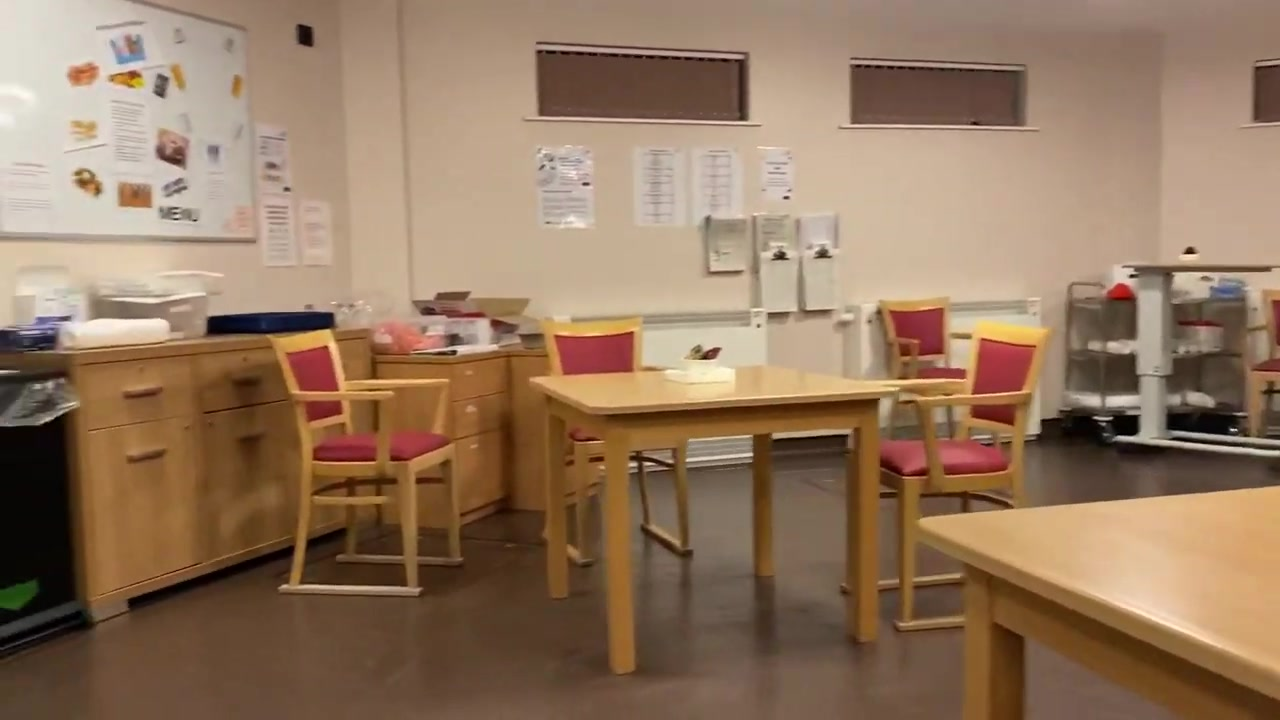chair: (841, 321, 1048, 631), (265, 333, 463, 600), (538, 318, 694, 566), (876, 297, 969, 439)
counter: (1, 323, 376, 616), (378, 340, 544, 526)
handle: (124, 443, 173, 469), (229, 366, 267, 386), (123, 385, 163, 397), (236, 432, 262, 444)
table: (528, 363, 896, 674), (914, 479, 1280, 720), (1116, 256, 1280, 459)
utility_cart: (1059, 276, 1249, 447)
waste_bin: (1, 372, 86, 655)
